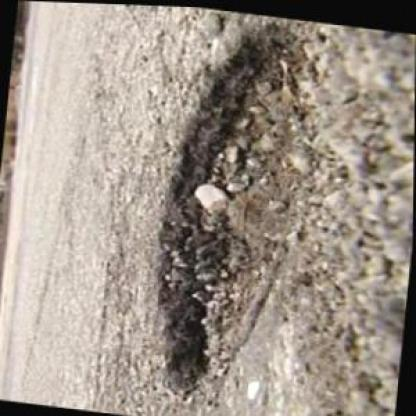pothole: (143, 7, 356, 408)
